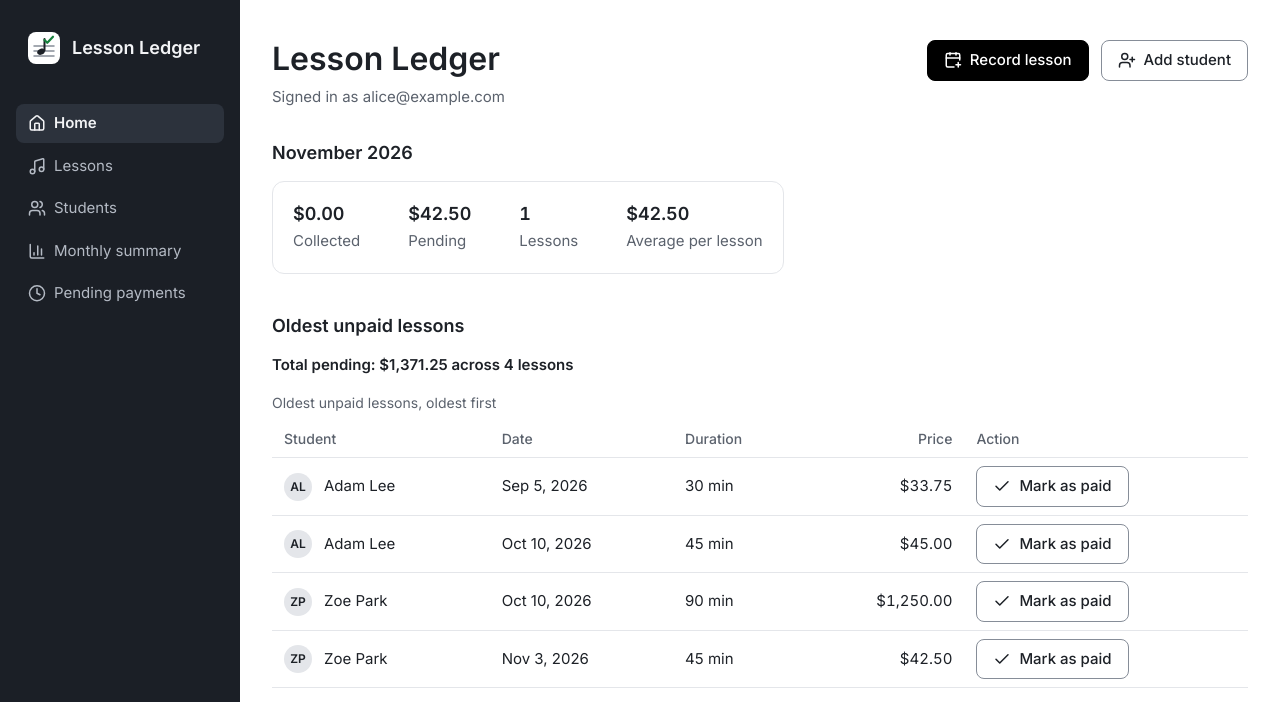
F07 AC-3 mark as paid on Home › AC-3d on a 404 an alert explains it; row, figures and total stay; focus returns
Expected: the text "Signed in as alice@example.com" is shown, top-left (272, 86), bottom-right (505, 109)
Expected: the table "Oldest unpaid lessons, oldest first" is shown, top-left (272, 393), bottom-right (1248, 688)
Click the 2nd button "Mark as paid" at (1052, 544), box top-left (976, 524), bottom-right (1129, 564)
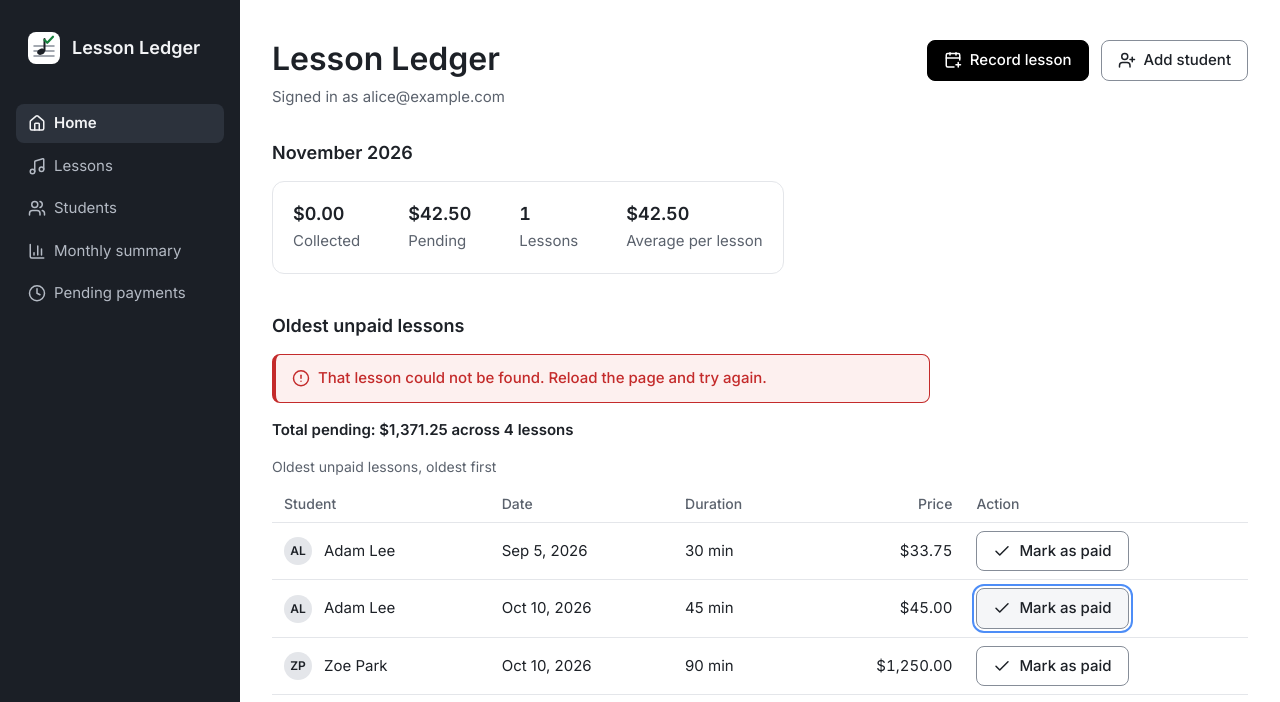
Expected: the text "Total pending: $1,371.25 across 4 lessons" is shown, top-left (272, 420), bottom-right (574, 439)
Now the message reads "That lesson could not be found. Reload the page and try again.", box top-left (318, 368), bottom-right (767, 387)
Now the message "That lesson could not be found. Reload the page and try again." is shown, box top-left (272, 354), bottom-right (930, 403)
